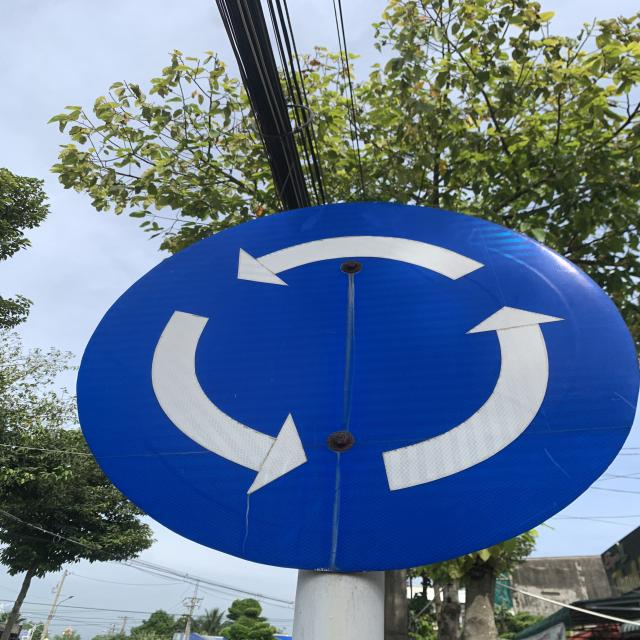Xe_Bus: (77, 198, 638, 572)
